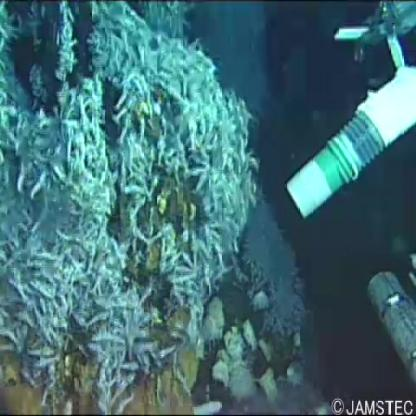Bio: (1, 5, 263, 388)
Rov: (283, 1, 414, 224)
